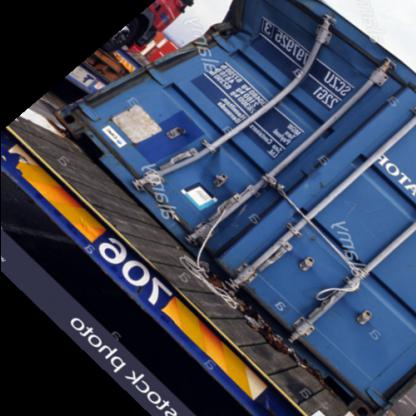Damage: (99, 0, 389, 211)
